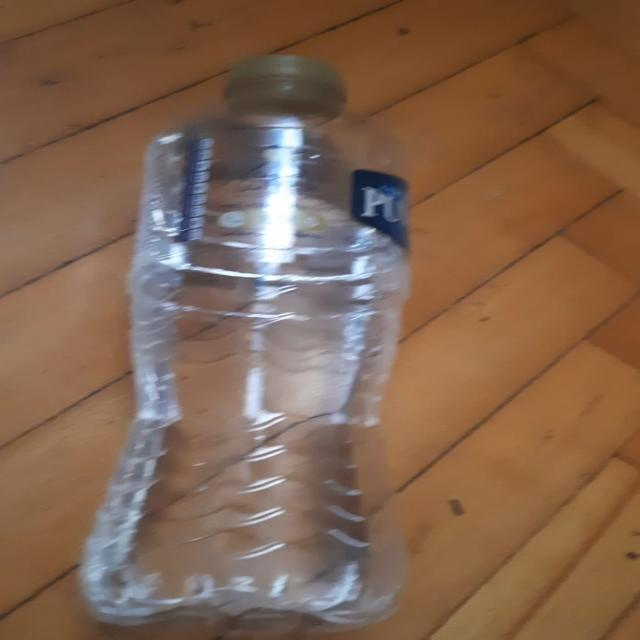Plastic: (76, 54, 412, 640), (76, 54, 409, 640)
